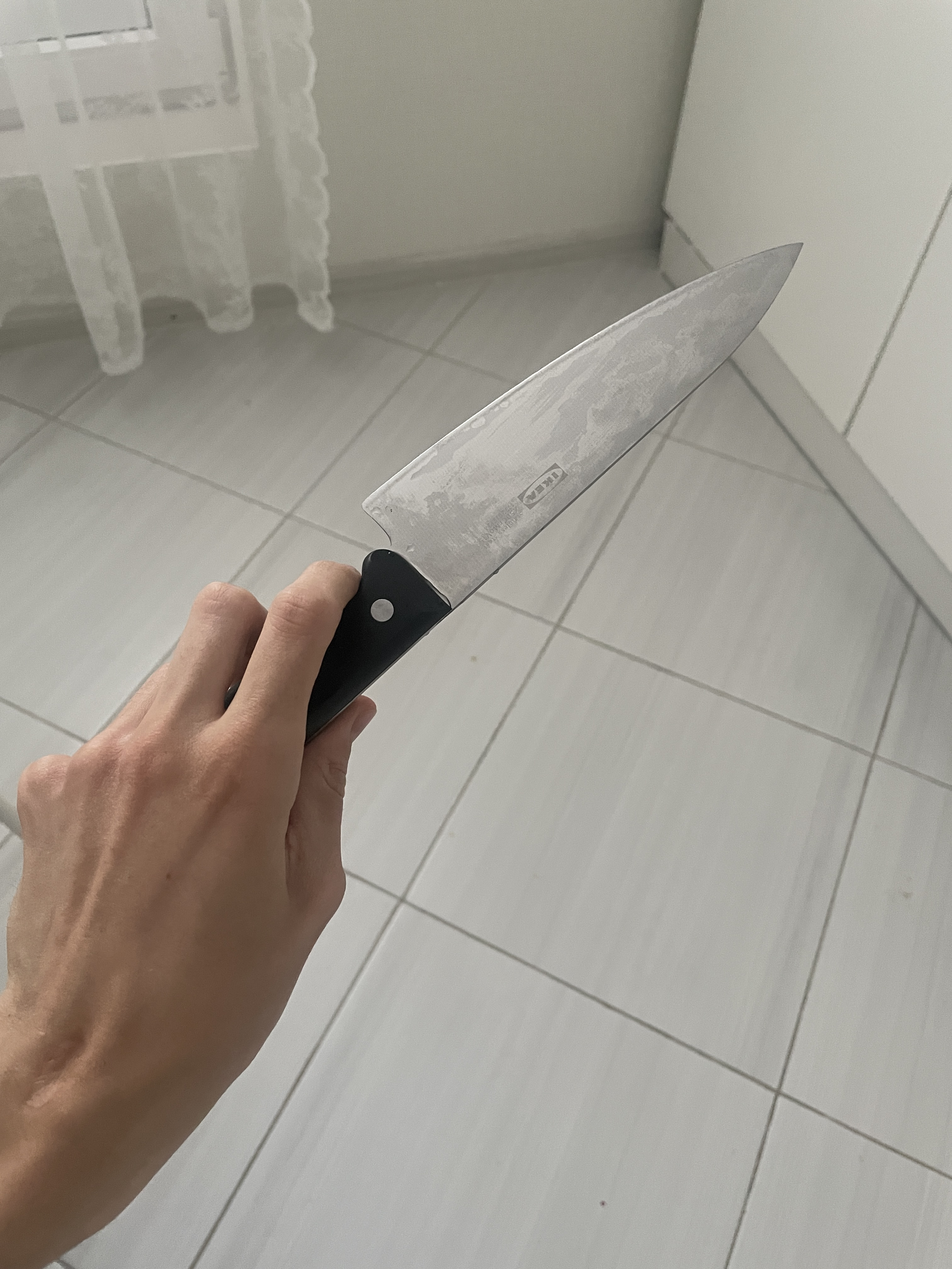knife: (306, 245, 801, 739)
